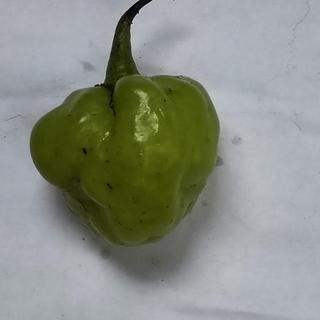Fly-bites: (159, 80, 176, 109), (100, 176, 118, 197), (76, 144, 93, 160)
